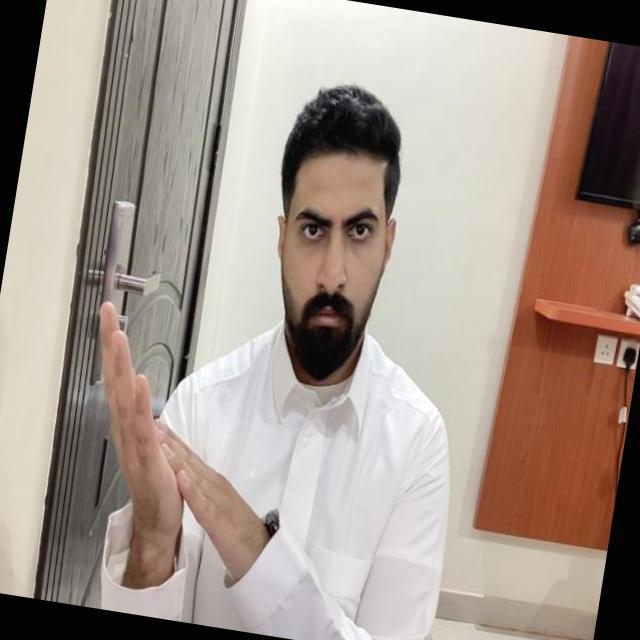complaint: (54, 296, 328, 604)
